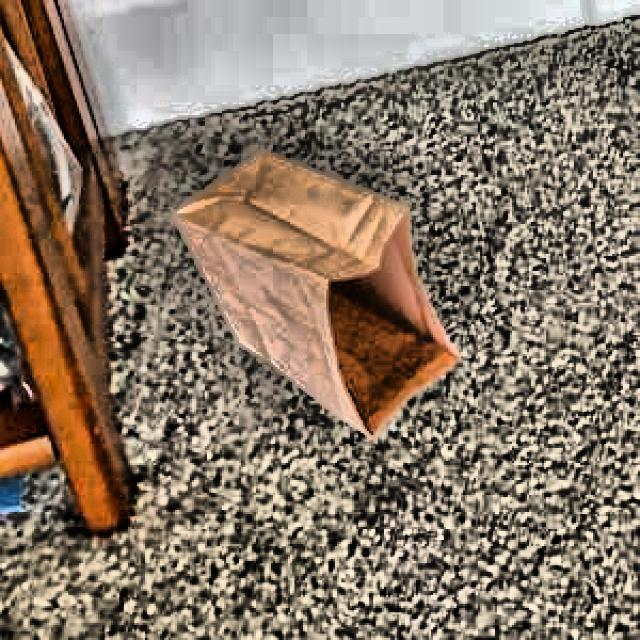Paper-bag: (152, 132, 472, 470)
